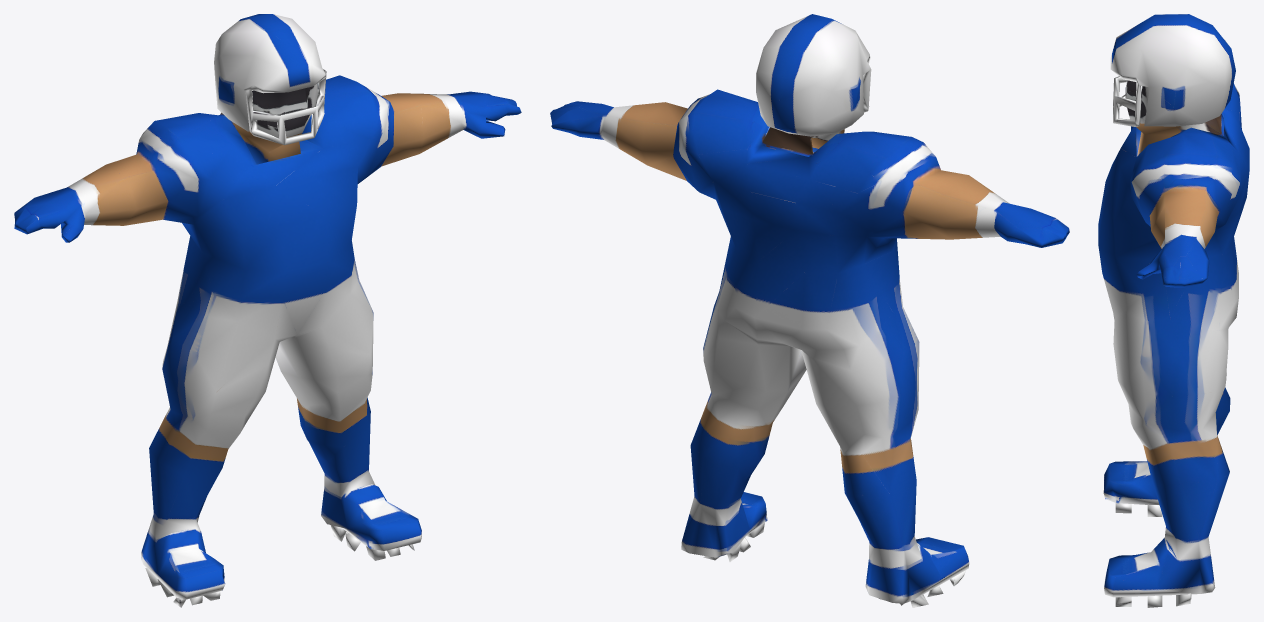
File: low-poly-big.glb
3 renders of one model, left to right at view 1: azimuth 30°, elevation 25°; view 2: azimuth 150°, elevation 25°; view 3: azimuth 270°, elevation 25°, orthographic. The views are drawn at different scales.
Size of the model in its own units: 0.9224 by 0.9512 by 0.2446.
Materials: 1 (1 with a texture image).
